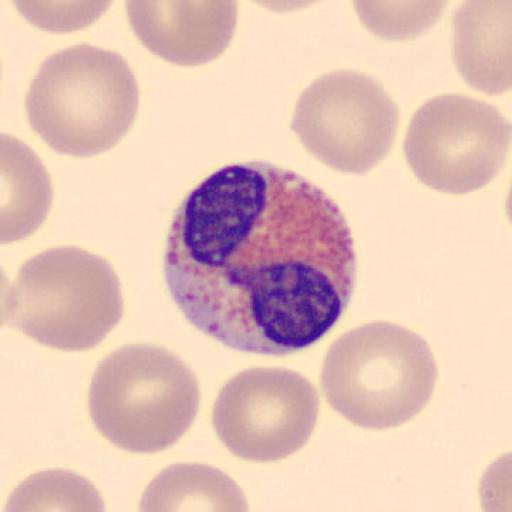RBC: (22, 40, 143, 160), (318, 318, 440, 434), (86, 340, 204, 457), (5, 243, 126, 355), (289, 66, 401, 178), (401, 91, 512, 197), (210, 362, 322, 466), (122, 0, 240, 68), (2, 130, 55, 244), (136, 460, 252, 512), (451, 0, 512, 97), (1, 465, 109, 512), (349, 0, 451, 42), (8, 0, 118, 35), (478, 447, 512, 512), (239, 1, 336, 16)
WBC: (163, 158, 360, 358)
